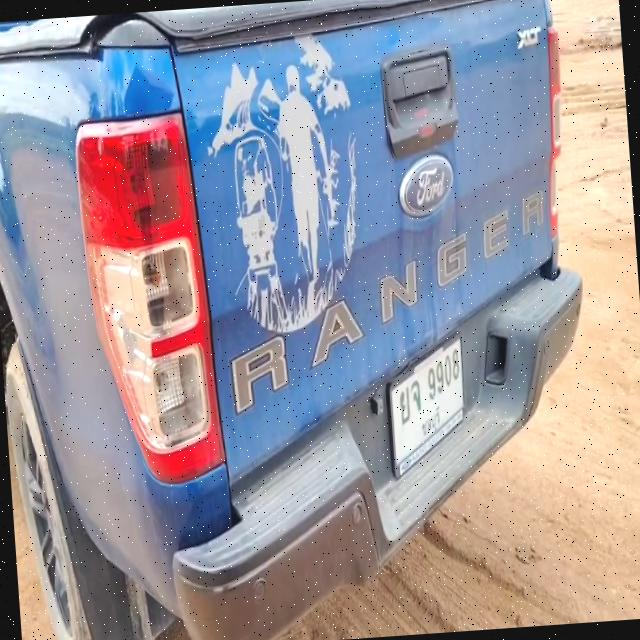Digit: (426, 348, 460, 398)
Licenseplate: (385, 326, 468, 481)
Provincename: (419, 408, 443, 438)
Thaichar: (398, 380, 422, 424)
